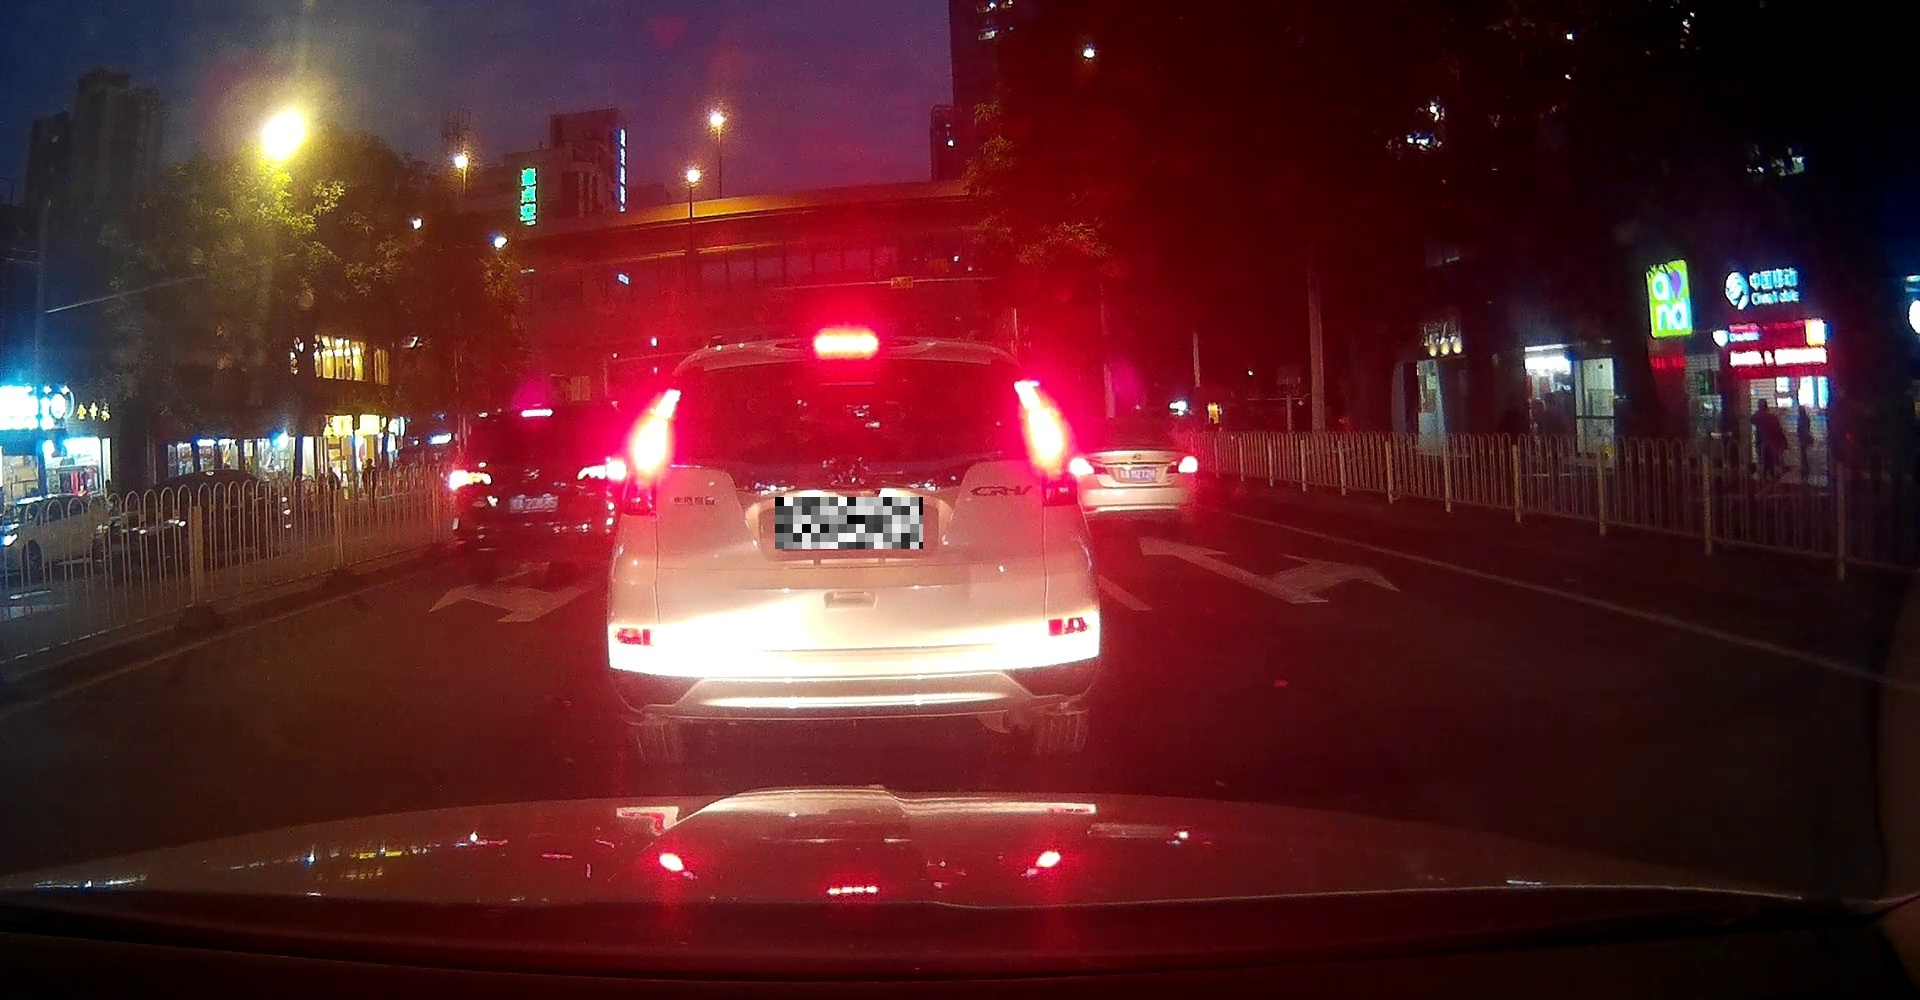L_light: (618, 388, 681, 516)
R_light: (1015, 378, 1082, 508)
T_light: (815, 332, 877, 357)
night-brake: (601, 327, 1102, 759)
plate_1: (775, 497, 923, 549)
